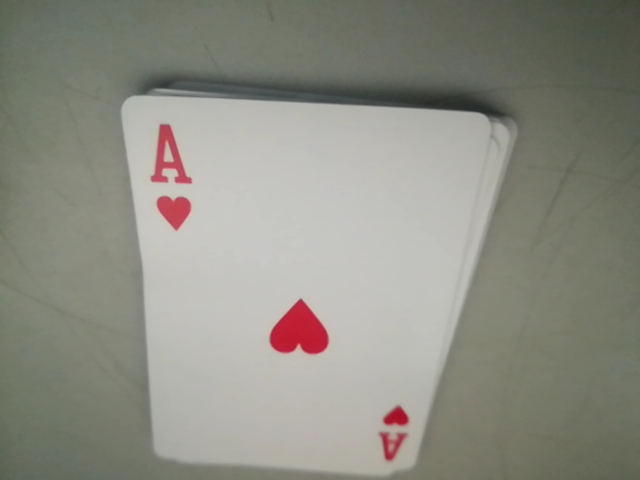hx a: (372, 399, 421, 471)
